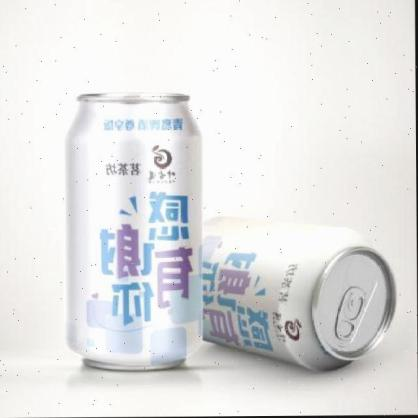can: (61, 88, 205, 372), (203, 211, 403, 372)
